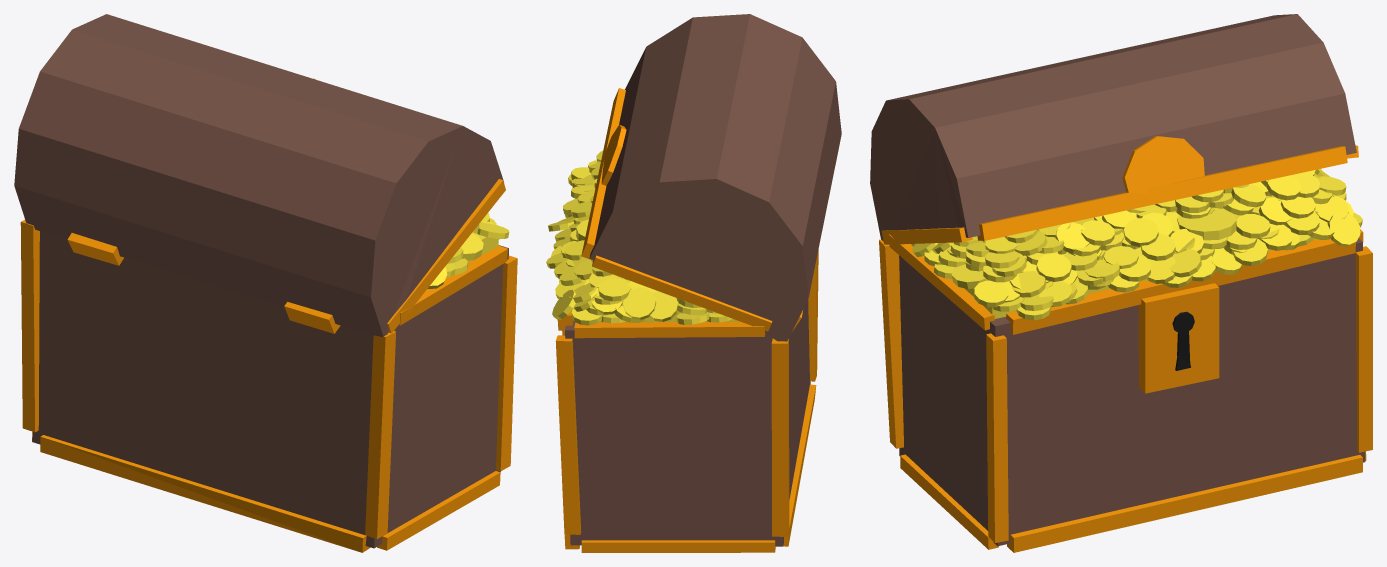
File: tresor.obj
3 renders of one model, left to right at view 1: azimuth 30°, elevation 25°; view 2: azimuth 150°, elevation 25°; view 3: azimuth 270°, elevation 25°, orthographic. The views are drawn at different scales.
Parts seen in each view (by area): view 1: group944139164, group1673624899, group1176336403, group1253408431, group2130799938, group1188779229, group929752709, group2141862034, group833255169; view 2: group944139164, group1673624899, group2130799938, group1135518375, group621290532, group1111637101, group1596027011, group1849654143, group1176336403, group1253408431, group476825830, group608746827 (+4 smaller); view 3: group1673624899, group944139164, group1948885995, group89601079, group1849654143, group1276403759, group1188779229, group1253408431, group1135518375, group608746827, group833255169, group929752709 (+17 smaller).
Part boxes in pixels (x1,y1,x2,y2): group944139164: [14, 14, 503, 337]; group1673624899: [32, 231, 508, 548]; group1176336403: [40, 435, 370, 552]; group1253408431: [365, 331, 395, 538]; group2130799938: [20, 220, 39, 432]; group1188779229: [496, 255, 517, 471]; group929752709: [377, 471, 500, 550]; group2141862034: [387, 179, 505, 333]; group833255169: [399, 245, 507, 325]; group944139164: [589, 14, 841, 341]; group1673624899: [565, 300, 810, 546]; group2130799938: [771, 338, 789, 536]; group1135518375: [555, 335, 581, 534]; group621290532: [574, 321, 765, 338]; group1111637101: [581, 540, 775, 552]; group1596027011: [592, 255, 772, 331]; group1849654143: [581, 88, 625, 260]; group1176336403: [783, 384, 816, 546]; group1253408431: [808, 249, 818, 381]; group476825830: [623, 287, 656, 319]; group608746827: [601, 124, 626, 185]; group1673624899: [899, 238, 1365, 546]; group944139164: [870, 14, 1356, 241]; group1948885995: [1138, 283, 1219, 393]; group89601079: [1007, 455, 1362, 552]; group1849654143: [977, 146, 1347, 240]; group1276403759: [1006, 238, 1355, 334]; group1188779229: [986, 333, 1008, 542]; group1253408431: [879, 239, 903, 448]; group1135518375: [1355, 246, 1372, 452]; group608746827: [1122, 136, 1204, 194]; group833255169: [888, 234, 994, 330]; group929752709: [900, 454, 998, 549].
Bounding box in the file's own units: 1.2 × 1.27 × 1.43.
